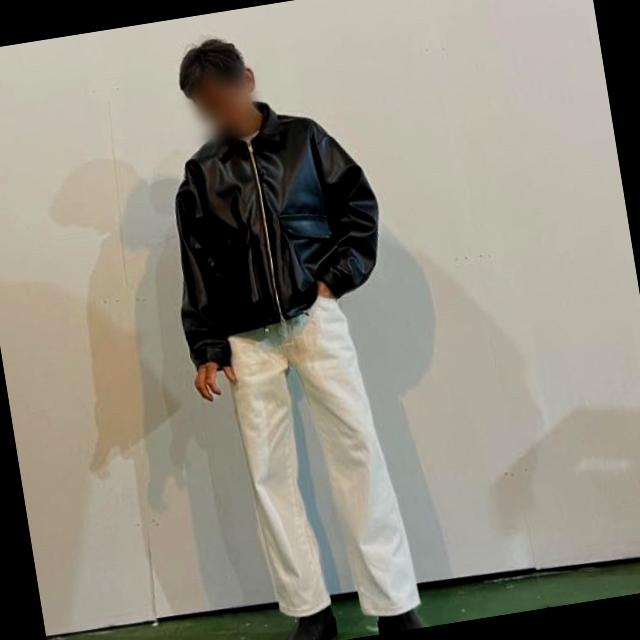jacket: (149, 79, 403, 374), (218, 280, 422, 635)
